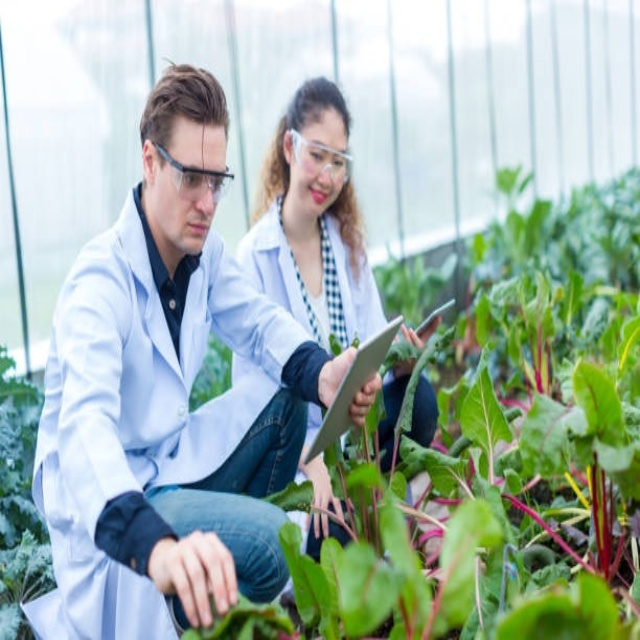Gafas: (150, 141, 234, 205), (289, 128, 352, 185)
Sin_guantes: (154, 527, 240, 628), (303, 460, 345, 543), (347, 372, 383, 428), (395, 317, 436, 363)
Sin_mascara: (176, 213, 214, 251), (298, 180, 334, 220)
